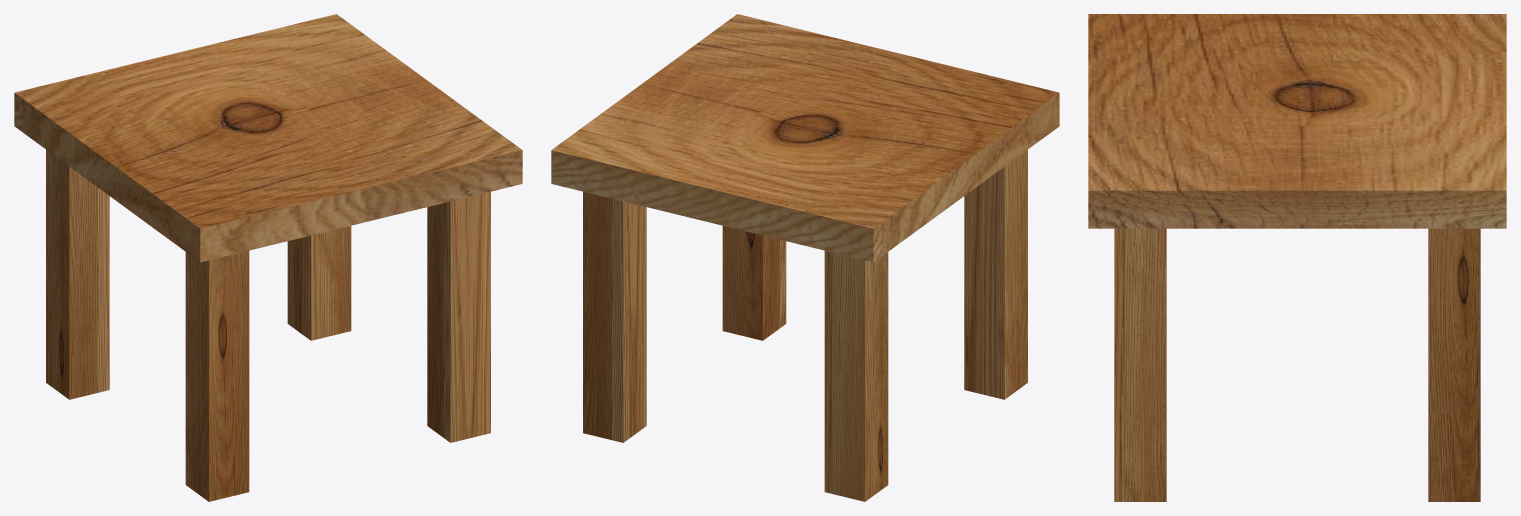
Rendered from MESA.fbx.
3 views of the same model, side by side, from view 1: azimuth 30°, elevation 25°; view 2: azimuth 150°, elevation 25°; view 3: azimuth 270°, elevation 25° (orthographic). The views are drawn at different scales.
Parts seen in each view (by area): view 1: Cube, Cube.001, Cube.002, Cube.003, Cube.004; view 2: Cube, Cube.003, Cube.004, Cube.001, Cube.002; view 3: Cube, Cube.002, Cube.004.
Boxes of the visible parts, box(x1,y1,x2,y2) form: Cube: box(14, 14, 522, 262); Cube.001: box(185, 250, 249, 501); Cube.002: box(427, 191, 490, 442); Cube.003: box(46, 150, 109, 399); Cube.004: box(287, 226, 351, 340); Cube: box(551, 14, 1059, 262); Cube.003: box(824, 250, 888, 501); Cube.004: box(583, 191, 646, 442); Cube.001: box(964, 150, 1027, 399); Cube.002: box(722, 226, 786, 340); Cube: box(1088, 14, 1506, 228); Cube.002: box(1114, 228, 1166, 501); Cube.004: box(1428, 228, 1480, 501).
Bounding box in the file's own units: 400 × 340 × 400.
5 materials, 5 textured.
